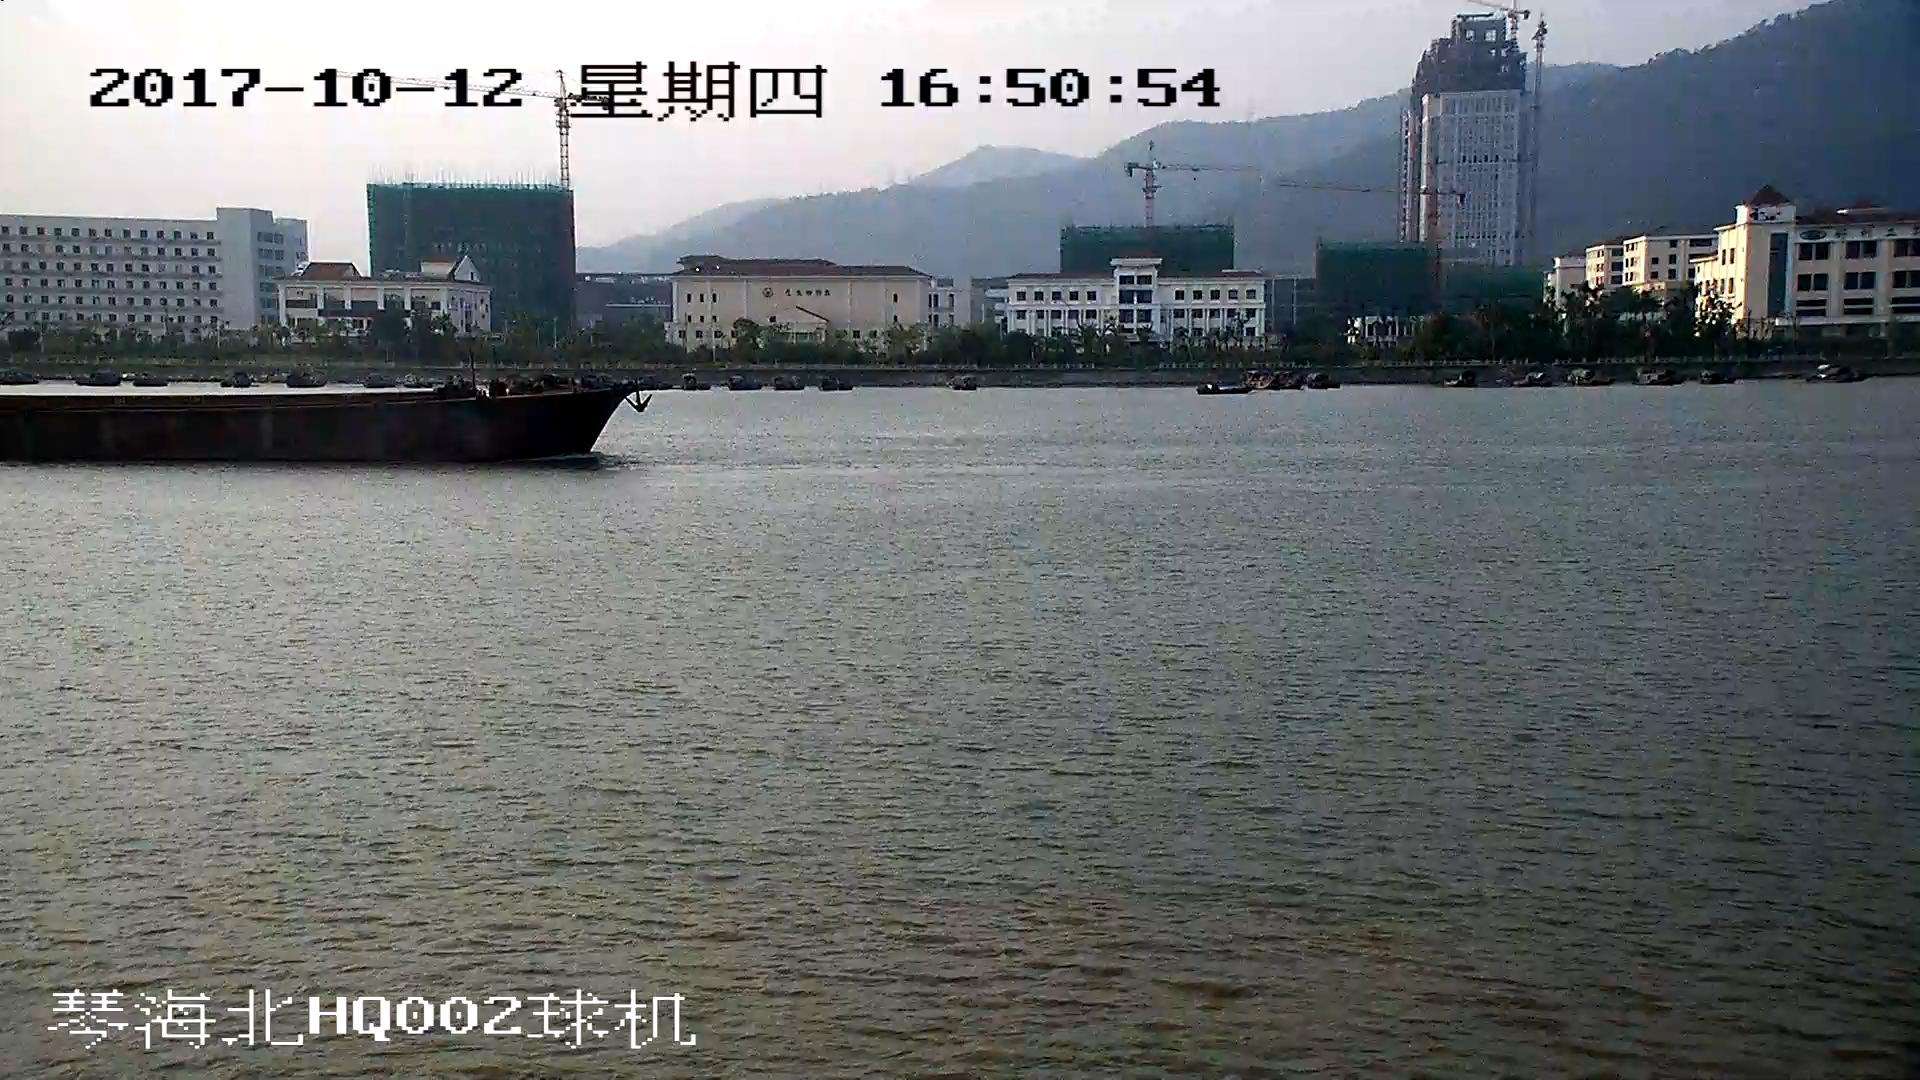bulk cargo carrier: (1, 379, 646, 471)
